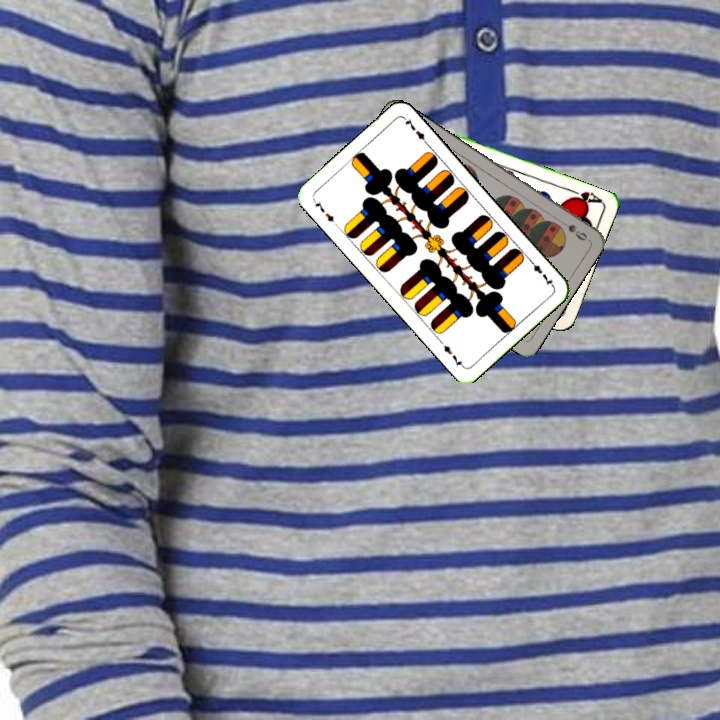E7: (525, 255, 556, 289), (309, 195, 337, 225)
HA: (565, 185, 604, 208)
S9: (554, 215, 590, 243)
